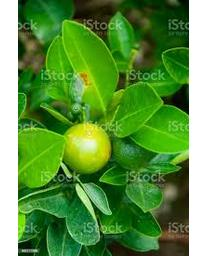lemon: (60, 124, 111, 171)
